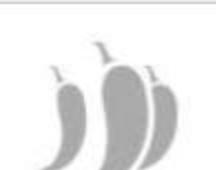ImgButton: (1, 1, 215, 169)
